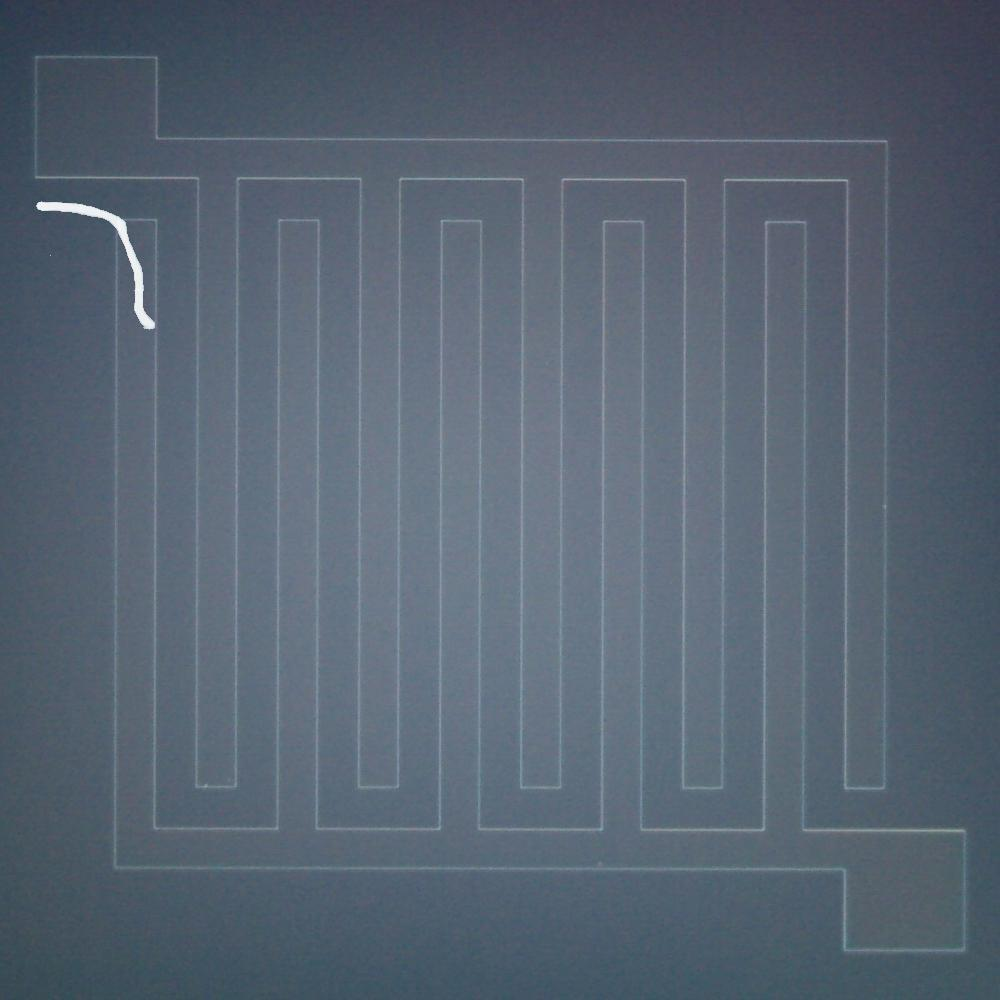line: (30, 194, 164, 340)
